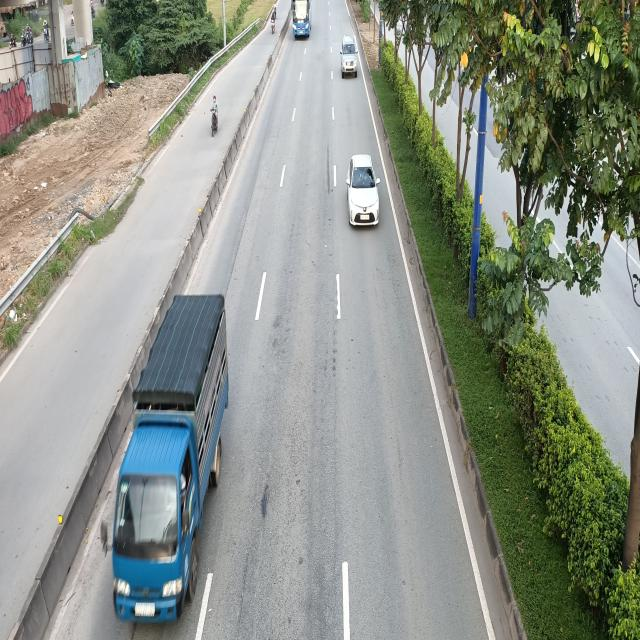car: (346, 156, 379, 231), (342, 38, 360, 79)
coach: (292, 0, 314, 38)
truck: (100, 293, 224, 626)
